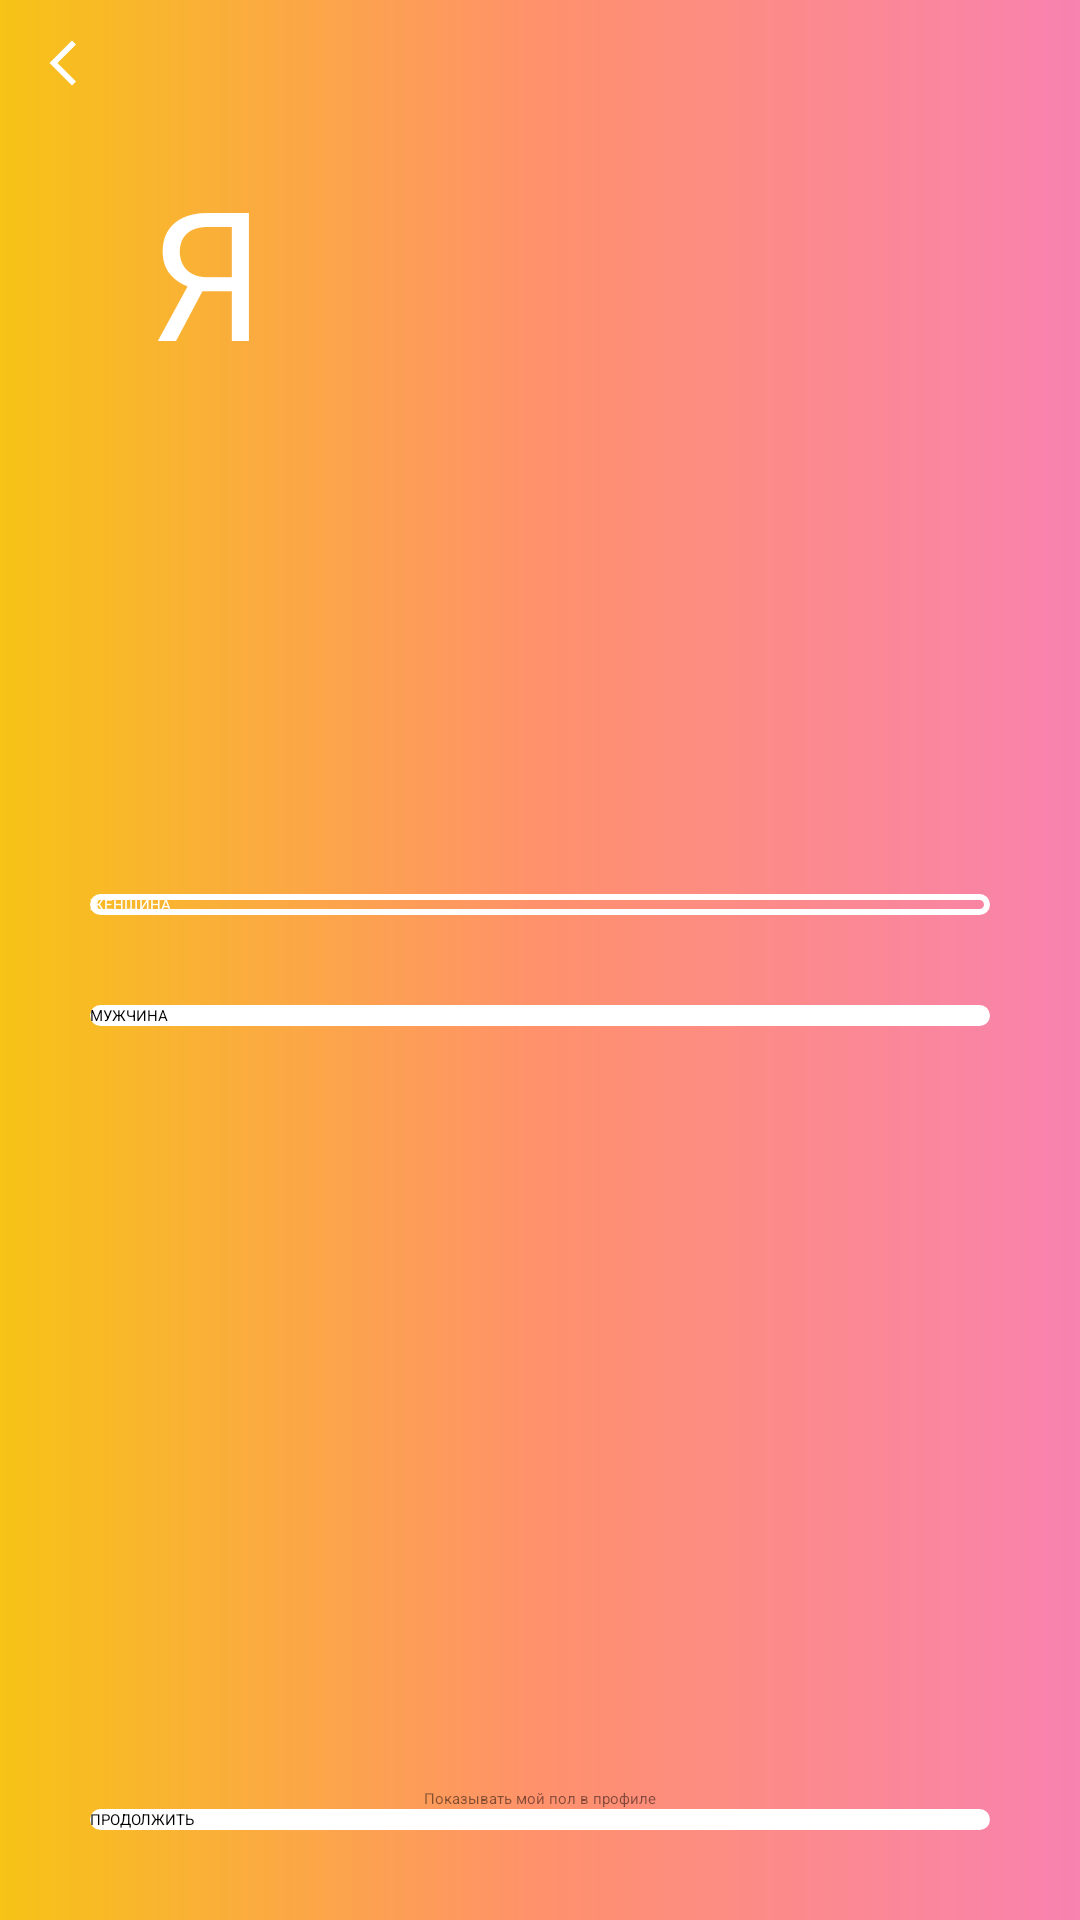

Icons on this 1080px×1920px Android screen, each with the point to tap as point (x, y):
back: point (63, 63)
